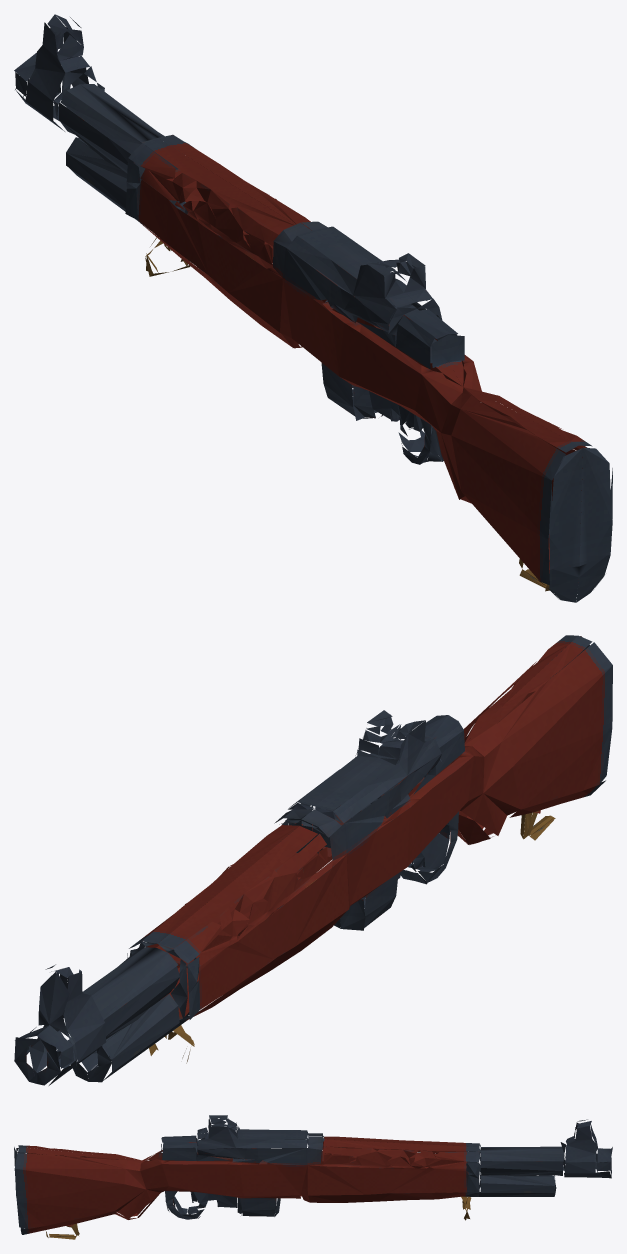
File: rifle.glb
3 renders of one model, top to bottom at view 1: azimuth 30°, elevation 25°; view 2: azimuth 150°, elevation 25°; view 3: azimuth 270°, elevation 25°, orthographic. The views are drawn at different scales.
Parts seen in each view (by area): view 1: geometry_0; view 2: geometry_0; view 3: geometry_0.
Part boxes in pixels (x1,y1,x2,y2): geometry_0: (14,14,612,602); geometry_0: (14,635,612,1085); geometry_0: (14,1115,612,1239).
Size of the model in its own units: 0.0706 by 0.2055 by 0.953.
Materials: 1 (1 with a texture image).
